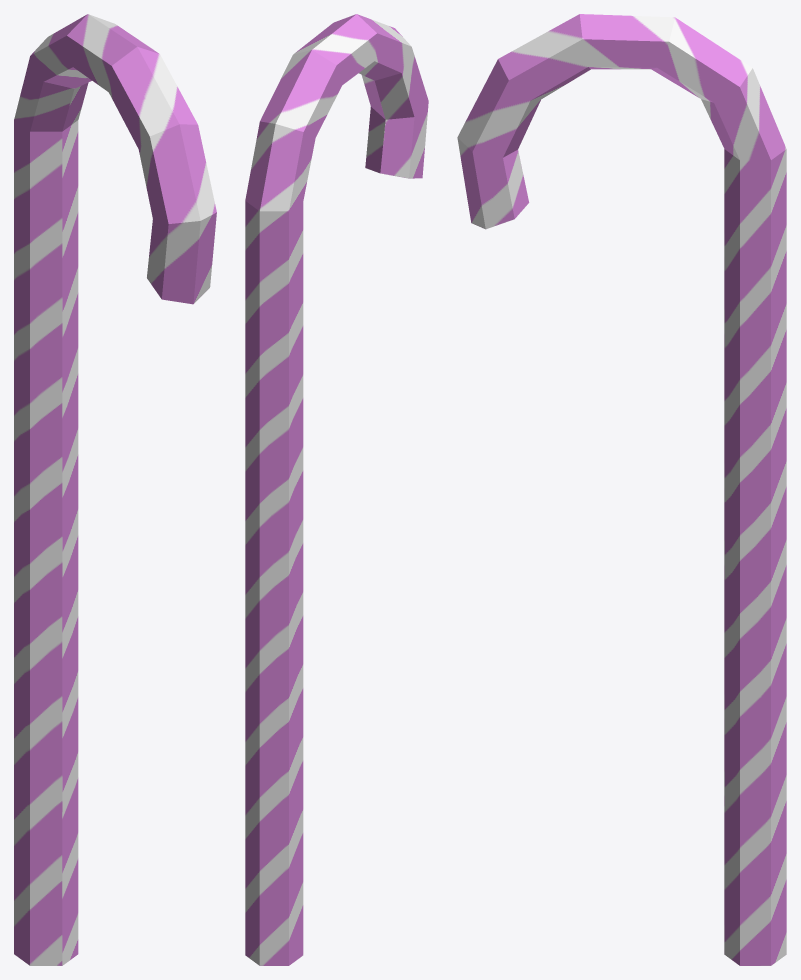
Rendered from LaskaRóżowa.fbx.
3 views of the same model, side by side, from view 1: azimuth 30°, elevation 25°; view 2: azimuth 150°, elevation 25°; view 3: azimuth 270°, elevation 25° (orthographic). The views are drawn at different scales.
Parts seen in each view (by area): view 1: LaskaRóżowa; view 2: LaskaRóżowa; view 3: LaskaRóżowa.
Part boxes in pixels (<box>): LaskaRóżowa: <box>14,14,216,965</box>; LaskaRóżowa: <box>245,14,428,965</box>; LaskaRóżowa: <box>457,14,786,965</box>.
Size of the model in its own units: 26.84 by 517 by 164.
Materials: 1 (1 with a texture image).
